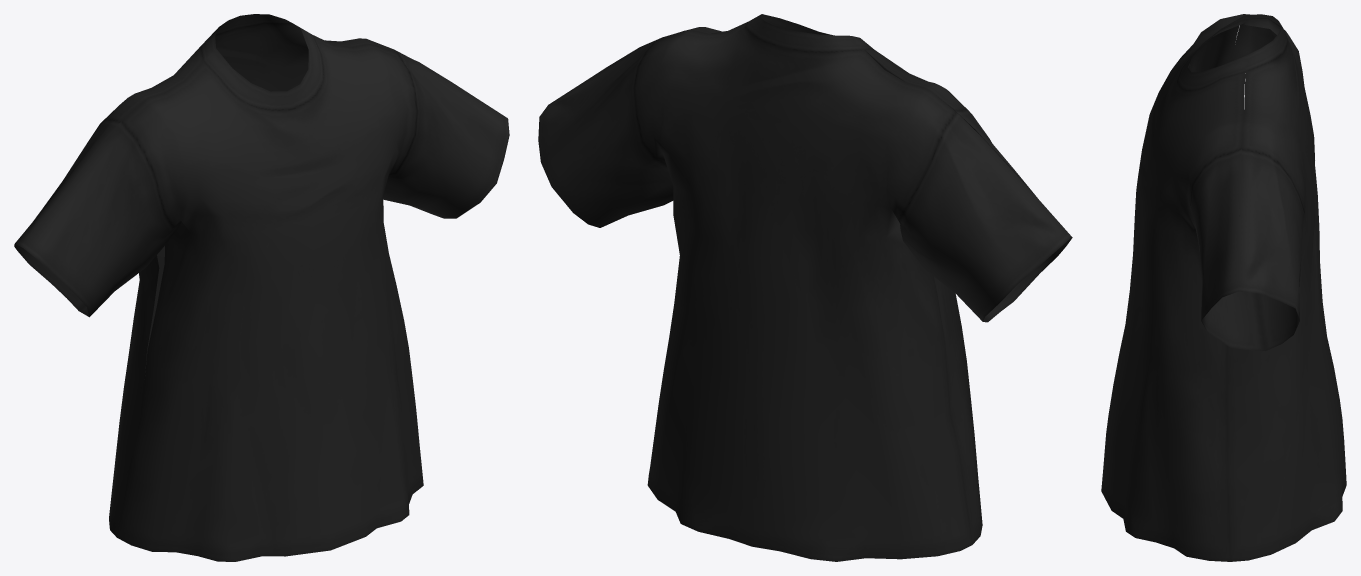
File: black.gltf
3 views of the same model, side by side, from view 1: azimuth 30°, elevation 25°; view 2: azimuth 150°, elevation 25°; view 3: azimuth 270°, elevation 25° (orthographic). The views are drawn at different scales.
Visible parts, largest first — view 1: Body.014; view 2: Body.014; view 3: Body.014.
Boxes of the visible parts, x1,y1,x2,y2 form: Body.014: [14, 14, 509, 561]; Body.014: [538, 14, 1072, 561]; Body.014: [1101, 14, 1346, 561].
Bounding box in the file's own units: 0.7679 × 0.704 × 0.3368.
Materials: 1 (1 with a texture image).
